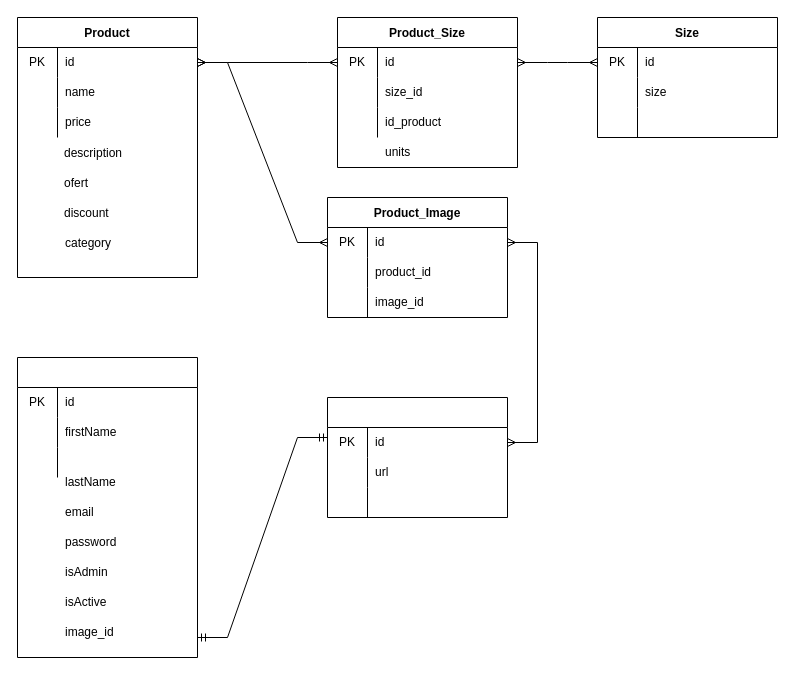
Image size: 795x675. Some labels were removed from this diagram. The shapes that lost their labels are listed below. From the top down, each one's box as (x1, y1, x2, y2) in pixels, then its label:
(326, 396, 508, 518): Image
(16, 356, 198, 658): User
